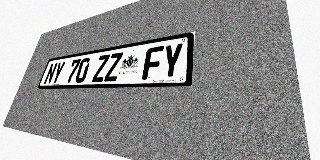0: (74, 57, 91, 83)
7: (65, 59, 81, 83)
F: (142, 46, 164, 80)
N: (43, 62, 58, 84)
Y: (160, 42, 184, 79), (50, 61, 66, 84)
Z: (104, 52, 123, 82), (92, 54, 110, 82)
